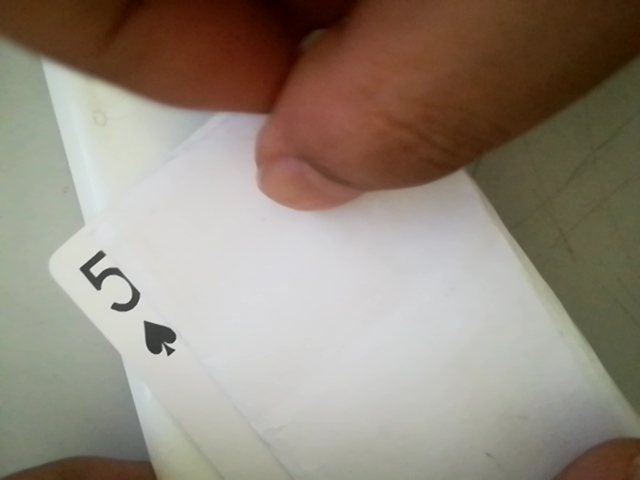ht 5: (63, 241, 195, 365)
